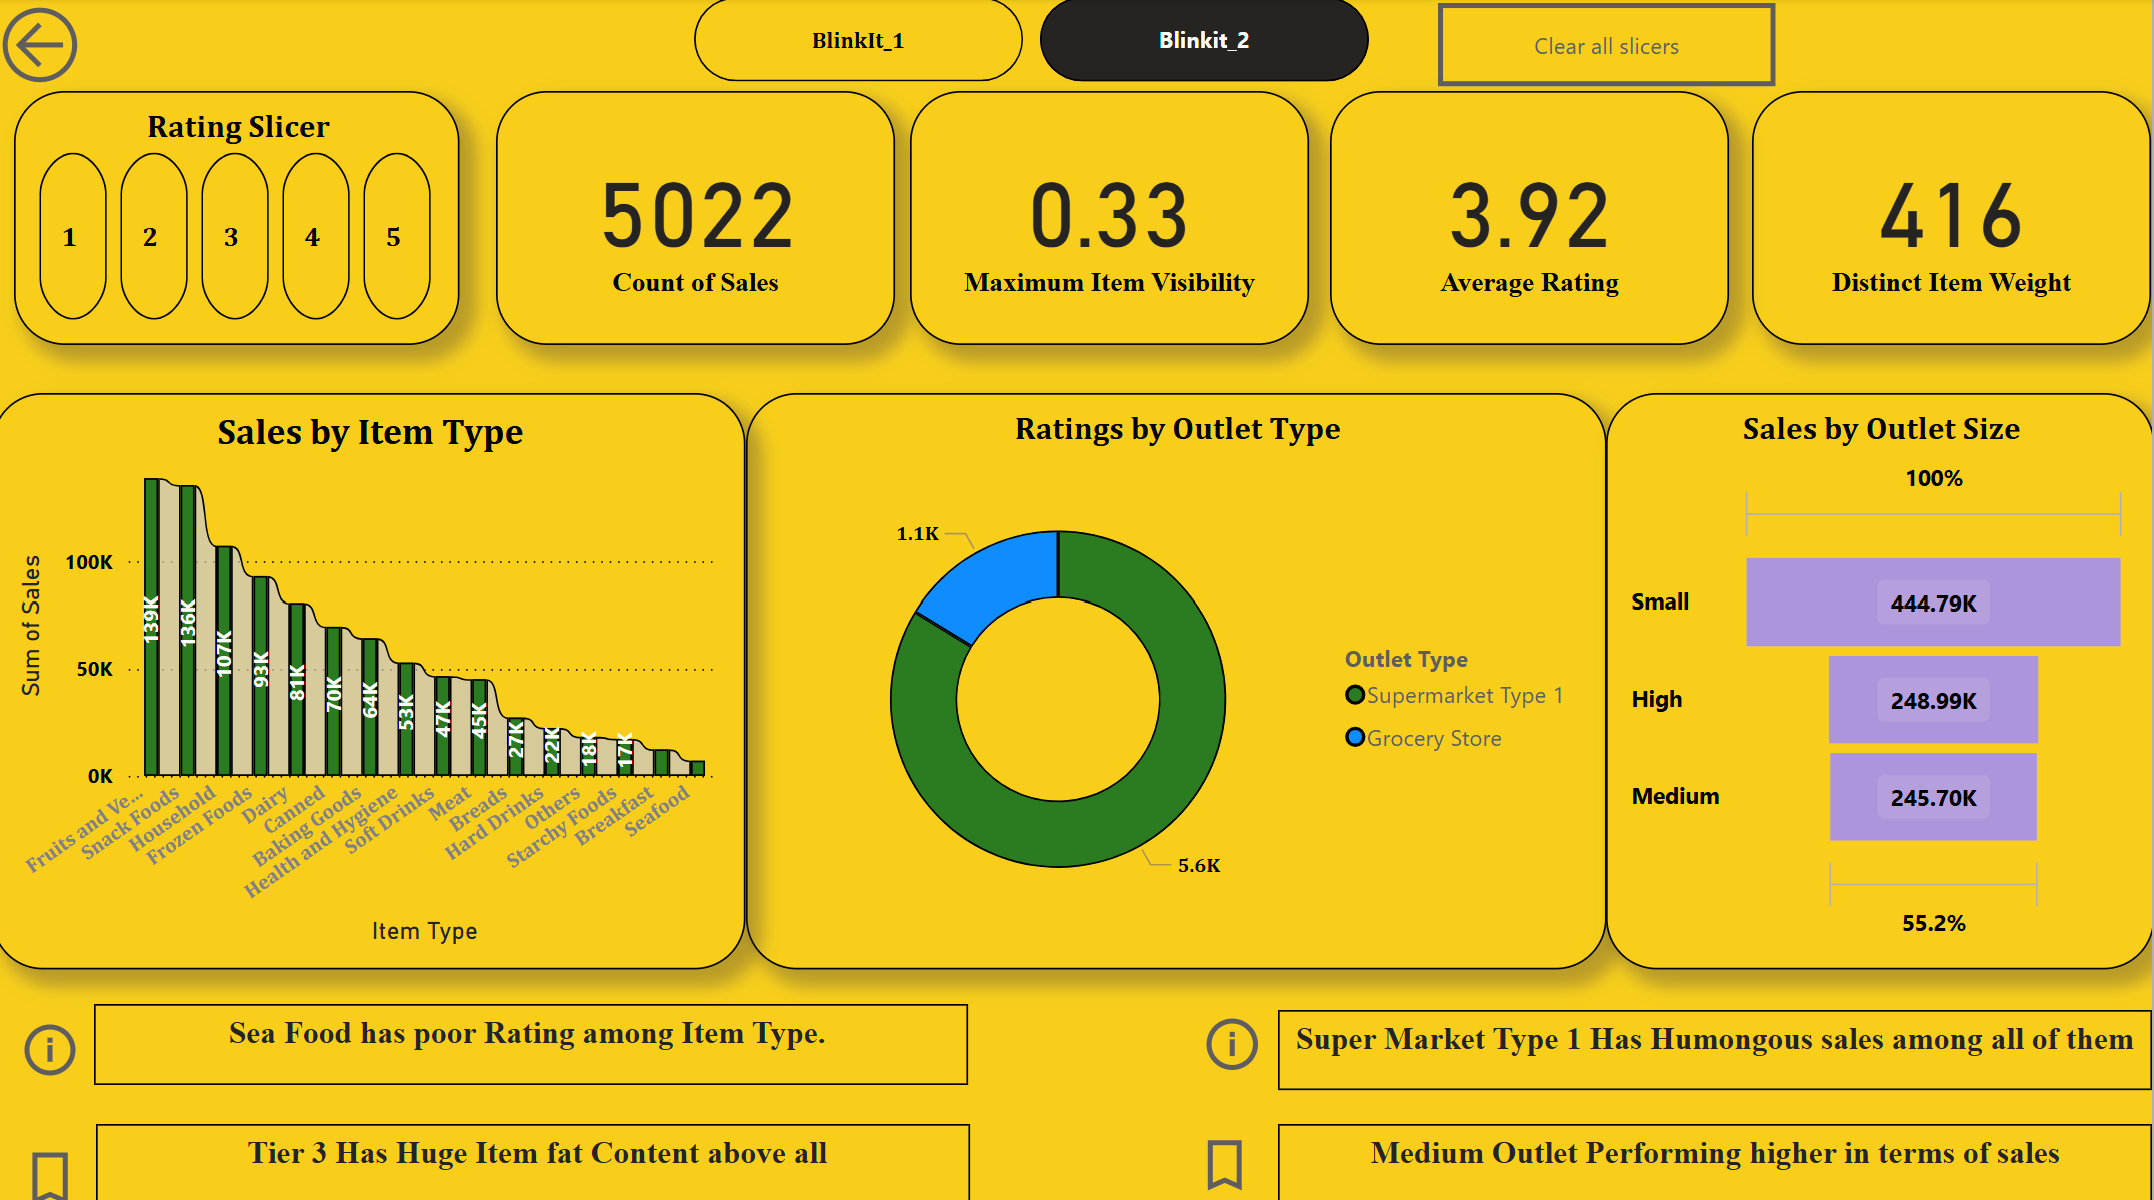

The dashboard page shown, as its layout file describes it:
{"tool":"powerbi","page":{"name":"Blinkit_2","canvas":[1280,720],"ordinal":1},"visuals":[{"type":"advancedSlicerVisual","fields":{"Values":["BlinkIT Grocery Data.Rating"]},"box":[13.2,56.1,264.2,150.6],"z":0},{"type":"card","fields":{"Values":["Count(BlinkIT Grocery Data.Sales)"]},"box":[298.5,56.1,236.4,150.6],"z":4000},{"type":"card","fields":{"Values":["BlinkIT Grocery Data.Max Visibility"]},"box":[544.2,56.1,236.4,150.6],"z":5000},{"type":"card","fields":{"Values":["Count(BlinkIT Grocery Data.Item Weight)"]},"box":[1043.6,56.1,236.4,150.6],"z":6000},{"type":"card","fields":{"Values":["Avg(BlinkIT Grocery Data.Rating)"]},"box":[792.6,56.1,236.4,150.6],"z":7000},{"type":"donutChart","title":" Ratings by Outlet Type","fields":{"Y":["CountNonNull(BlinkIT Grocery Data.Rating)"],"Category":["BlinkIT Grocery Data.Outlet Type"]},"box":[446.5,235.1,509.9,340.8],"z":8000},{"type":"actionButton","box":[0,0,60.8,56.8],"z":9000},{"type":"ribbonChart","title":"Sales by Item Type","fields":{"Category":["BlinkIT Grocery Data.Item Type"],"Y":["Sum(BlinkIT Grocery Data.Sales)"]},"box":[0,235.1,446.5,340.8],"z":10000},{"type":"funnel","title":"Sales by Outlet Size","fields":{"Y":["Sum(BlinkIT Grocery Data.Sales)"],"Category":["BlinkIT Grocery Data.Outlet Size"]},"box":[956.4,235.1,325,340.8],"z":11000},{"type":"pageNavigator","box":[416.1,0,400.2,50.2],"z":12000},{"type":"actionButton","box":[714.7,599.4,47.1,40.6],"z":13000},{"type":"textbox","box":[762.1,599.7,517.9,47.4],"z":14000},{"type":"actionButton","box":[14.6,679,40.6,40.6],"z":15000},{"type":"textbox","box":[61.7,667.6,518.2,48.7],"z":16000},{"type":"actionButton","box":[14.2,603.3,40.3,40.3],"z":17000},{"type":"textbox","box":[60.3,596.1,518,48],"z":18000},{"type":"actionButton","box":[711.5,672.5,50.4,39],"z":19000},{"type":"textbox","box":[761.8,667.6,518.2,48.7],"z":20000},{"type":"actionButton","box":[856.5,4.1,200.1,49.3],"z":21000}]}

Visuals, with their boxes in screenshot pixels (x1, y1, x2, y2), scaled from the page's 1280x720 canvas onto the 2154x1200 screenshot:
advancedSlicerVisual - BlinkIT Grocery Data.Rating: bbox=(22, 94, 467, 344)
card - Count(BlinkIT Grocery Data.Sales): bbox=(502, 94, 900, 344)
card - BlinkIT Grocery Data.Max Visibility: bbox=(916, 94, 1314, 344)
card - Count(BlinkIT Grocery Data.Item Weight): bbox=(1756, 94, 2153, 344)
card - Avg(BlinkIT Grocery Data.Rating): bbox=(1334, 94, 1732, 344)
" Ratings by Outlet Type" donutChart: bbox=(751, 392, 1609, 960)
actionButton: bbox=(0, 0, 102, 95)
"Sales by Item Type" ribbonChart: bbox=(0, 392, 751, 960)
"Sales by Outlet Size" funnel: bbox=(1609, 392, 2153, 960)
pageNavigator: bbox=(700, 0, 1374, 84)
actionButton: bbox=(1203, 999, 1282, 1067)
textbox: bbox=(1282, 1000, 2153, 1078)
actionButton: bbox=(25, 1132, 93, 1199)
textbox: bbox=(104, 1113, 976, 1194)
actionButton: bbox=(24, 1006, 92, 1073)
textbox: bbox=(101, 994, 973, 1074)
actionButton: bbox=(1197, 1121, 1282, 1186)
textbox: bbox=(1282, 1113, 2153, 1194)
actionButton: bbox=(1441, 7, 1778, 89)
